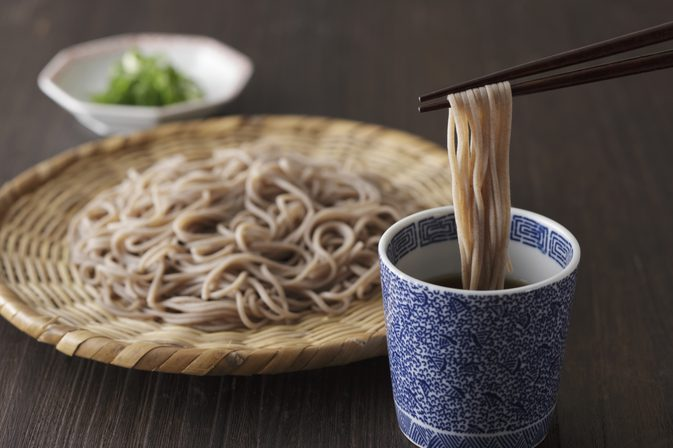Soba: (75, 141, 414, 319), (445, 69, 527, 305)
